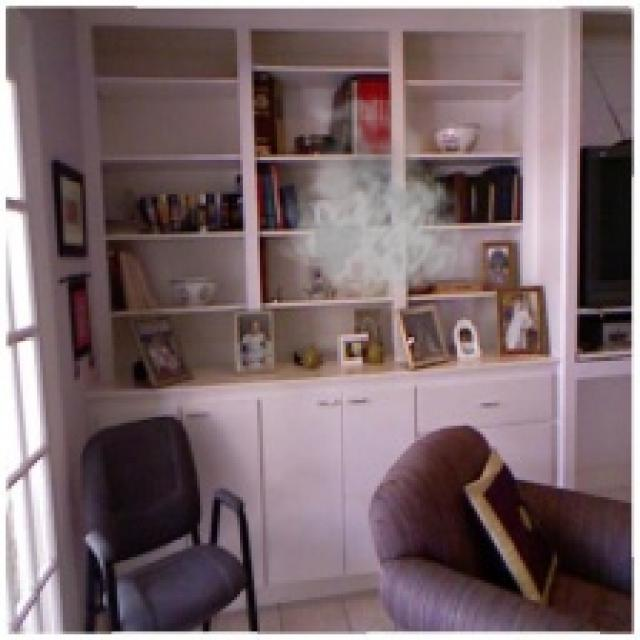smoke: (272, 80, 474, 306)
